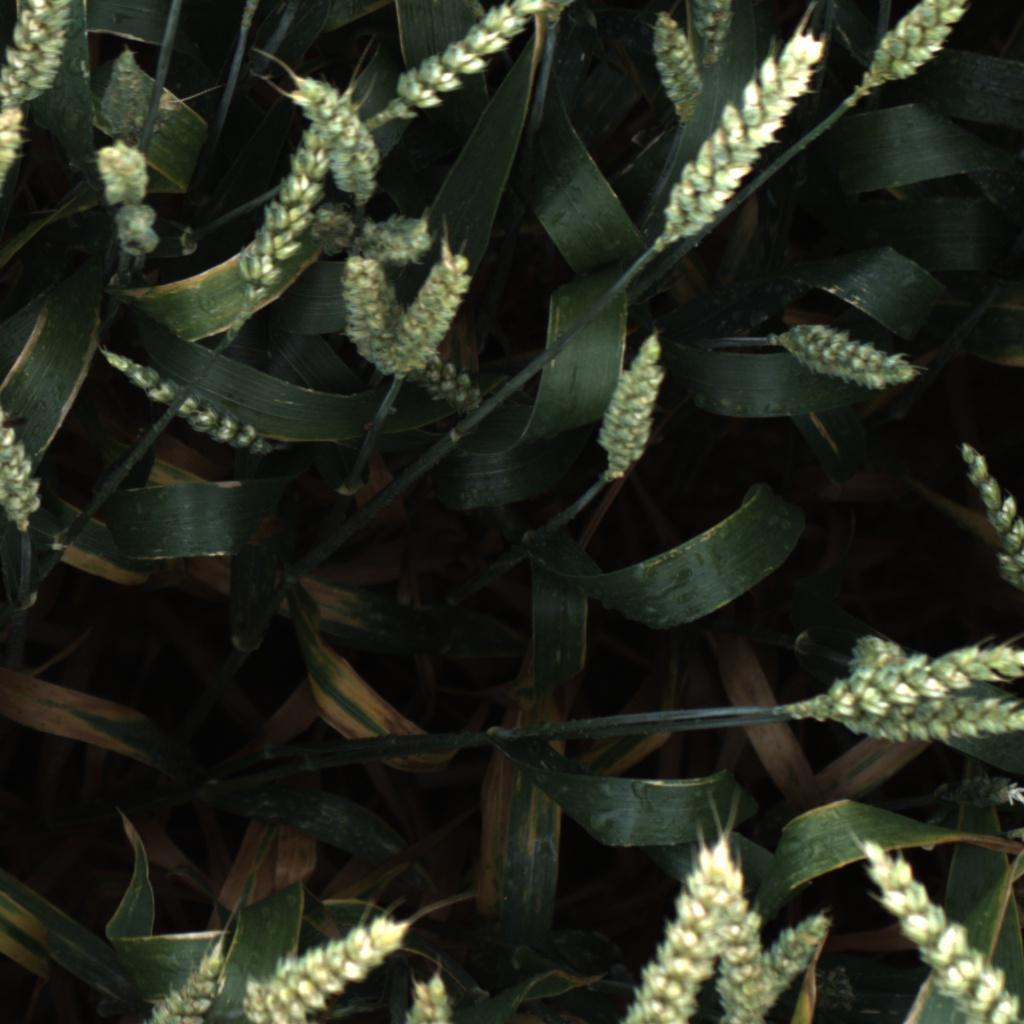0-0: (651, 20, 835, 259), (222, 121, 337, 345), (613, 833, 747, 1024), (89, 345, 279, 466), (386, 0, 558, 125), (773, 640, 1024, 721), (238, 911, 408, 1024), (843, 0, 1001, 114), (272, 59, 383, 208), (586, 327, 677, 483), (786, 691, 1024, 746), (388, 235, 477, 382), (953, 437, 1024, 607), (776, 317, 923, 398), (753, 898, 842, 1014), (134, 928, 229, 1024), (334, 254, 404, 380), (0, 0, 77, 111), (712, 876, 769, 1024), (0, 364, 46, 541), (638, 7, 704, 122), (95, 43, 157, 147), (413, 346, 486, 421), (388, 960, 463, 1024), (921, 767, 1024, 812), (679, 0, 750, 64), (351, 209, 431, 265), (110, 195, 168, 264), (301, 203, 369, 261), (97, 130, 150, 199), (0, 104, 34, 207), (845, 632, 913, 683), (519, 0, 584, 20)
